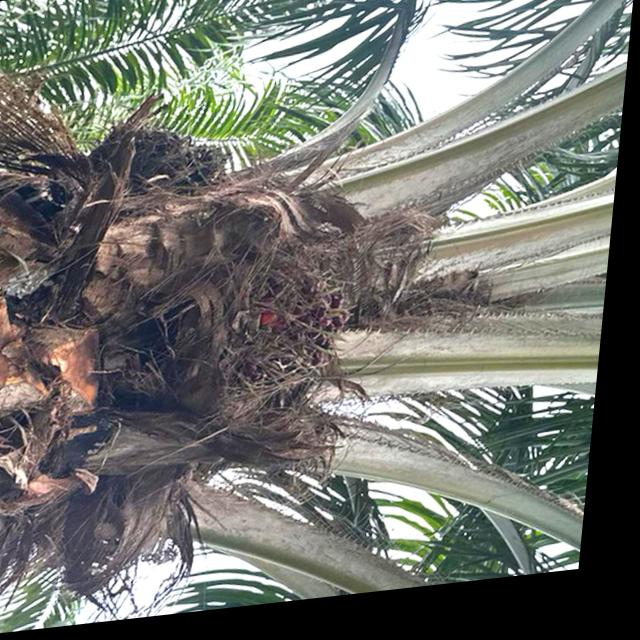ripe: (176, 247, 375, 432), (107, 119, 241, 212)
